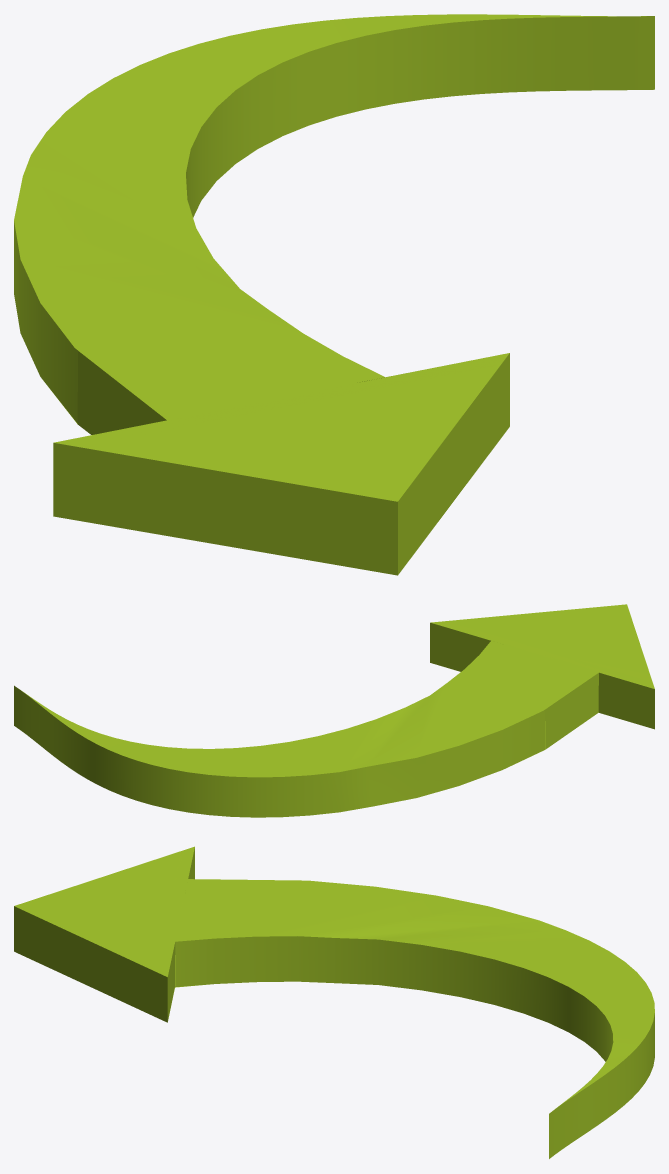
3 renders of one model, top to bottom at view 1: azimuth 30°, elevation 25°; view 2: azimuth 150°, elevation 25°; view 3: azimuth 270°, elevation 25°, orthographic. The views are drawn at different scales.
Parts seen in each view (by area): view 1: 掰箭头.001; view 2: 掰箭头.001; view 3: 掰箭头.001.
Part boxes in pixels (box(x1,y1,x2,y2)): 掰箭头.001: box(14, 14, 654, 575); 掰箭头.001: box(14, 604, 654, 817); 掰箭头.001: box(14, 846, 654, 1158).
Bounding box in the file's own units: 12605 × 1040 × 12766.
